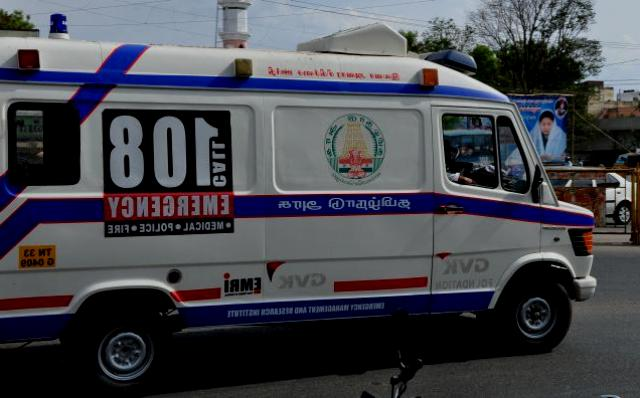ambulance: (0, 35, 596, 384)
